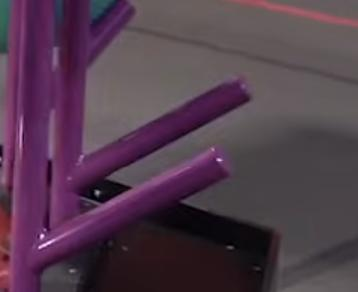algae: (0, 0, 116, 54)
